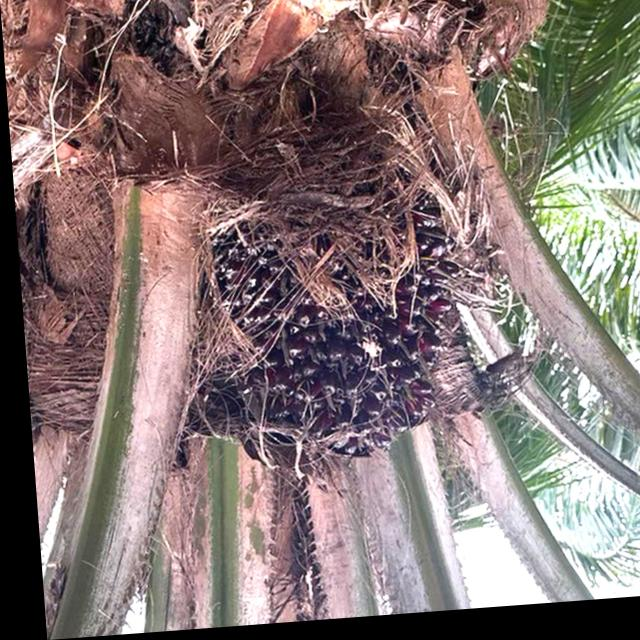ripe: (201, 222, 463, 481)
